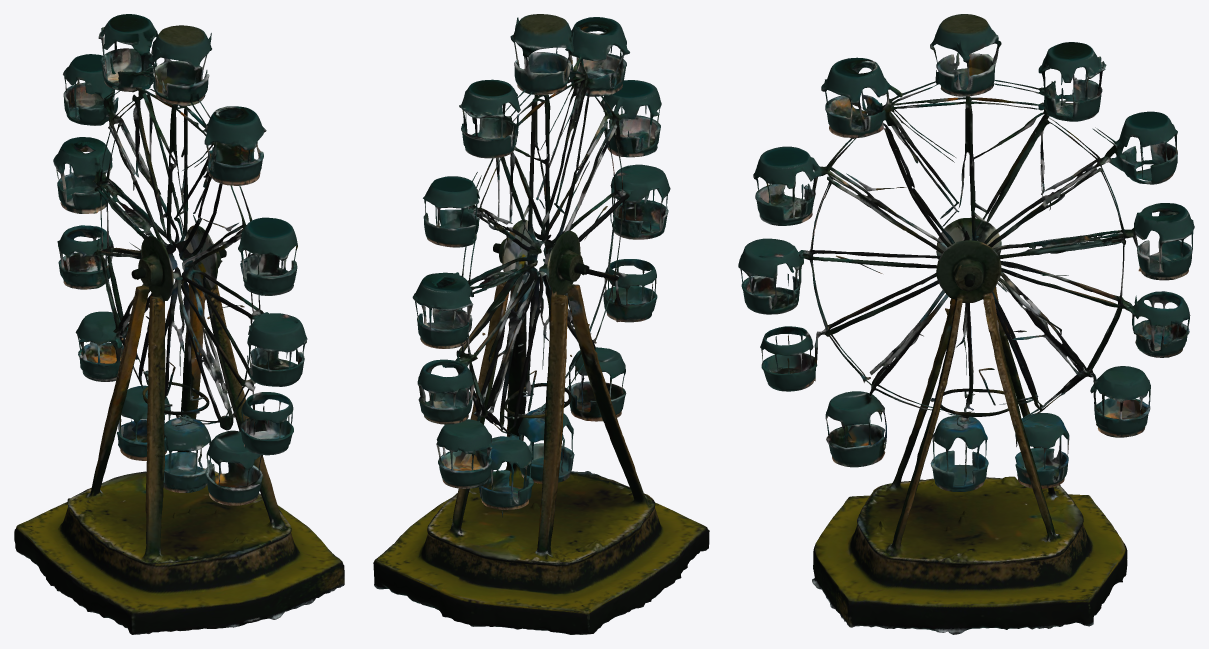
File: ruedaFortuna.fbx
3 views of the same model, side by side, from view 1: azimuth 30°, elevation 25°; view 2: azimuth 150°, elevation 25°; view 3: azimuth 270°, elevation 25° (orthographic). The views are drawn at different scales.
Parts seen in each view (by area): view 1: tripo_node_2001a667; view 2: tripo_node_2001a667; view 3: tripo_node_2001a667.
Part boxes in pixels (left/top/right/bottom): tripo_node_2001a667: left=14, top=14, right=344, bottom=634; tripo_node_2001a667: left=373, top=14, right=709, bottom=634; tripo_node_2001a667: left=738, top=14, right=1194, bottom=634.
Size of the model in its own units: 0.4557 by 1 by 0.7498.
1 material, 1 textured.
